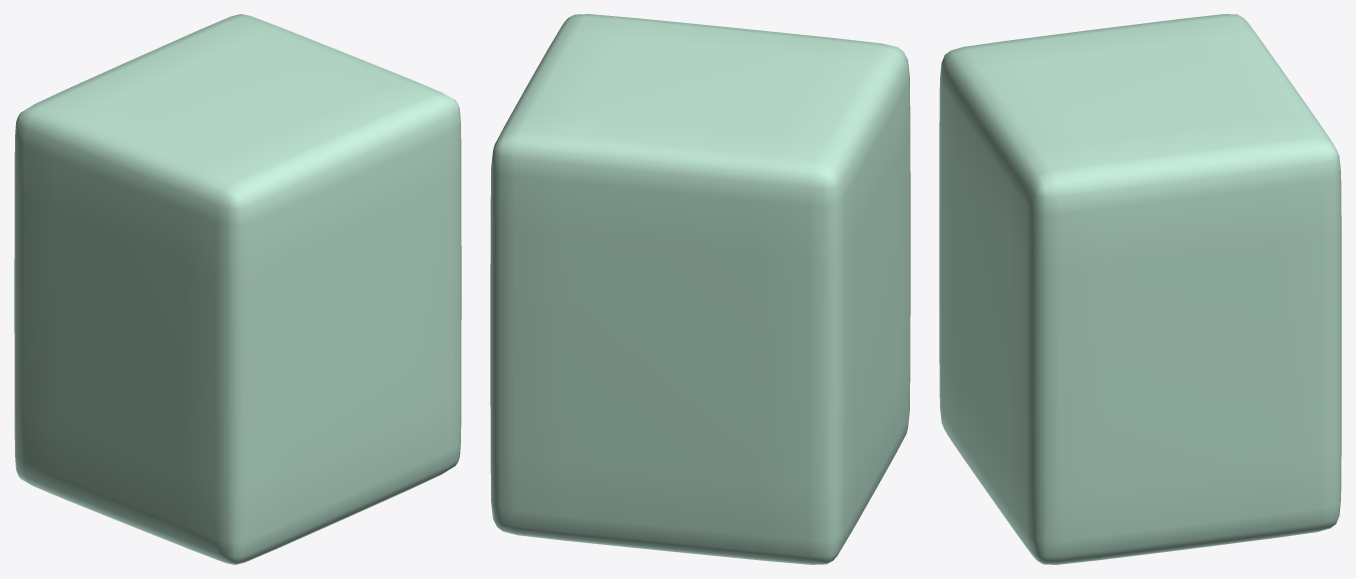
Rendered from PROP_ParkBin_v0.glb.
3 renders of one model, left to right at view 1: azimuth 30°, elevation 25°; view 2: azimuth 150°, elevation 25°; view 3: azimuth 270°, elevation 25°, orthographic. The views are drawn at different scales.
Visible parts, largest first — view 1: PROP_ParkBin_v0; view 2: PROP_ParkBin_v0; view 3: PROP_ParkBin_v0.
Boxes of the visible parts, <box> form: PROP_ParkBin_v0: <box>14,14,461,564</box>; PROP_ParkBin_v0: <box>490,14,910,564</box>; PROP_ParkBin_v0: <box>939,14,1341,564</box>.
Bounding box in the file's own units: 0.717 × 0.7414 × 0.6844.
